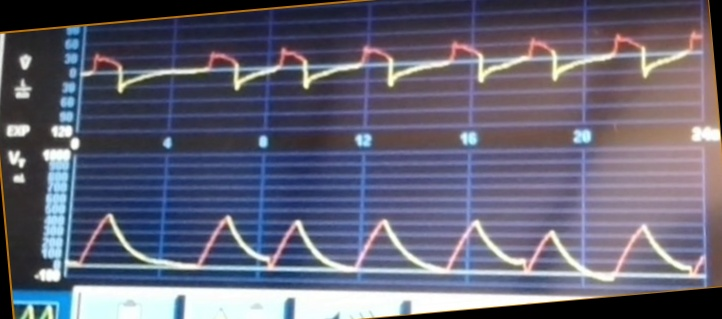Normal Flow: (84, 26, 703, 112)
Normal Volume: (74, 187, 705, 285)
